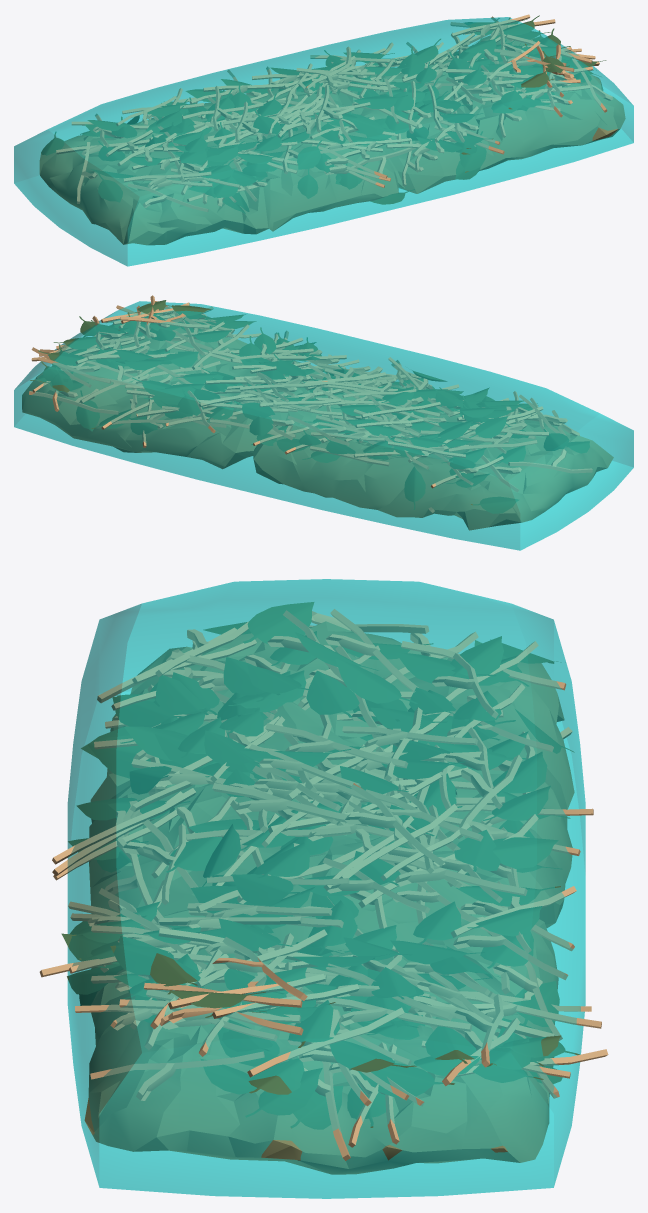
Rendered from scale_ref_50_125_250_bed.fbx.
3 views of the same model, one above another, from view 1: azimuth 30°, elevation 25°; view 2: azimuth 150°, elevation 25°; view 3: azimuth 270°, elevation 25° (orthographic). The views are drawn at different scales.
Parts seen in each view (by area): view 1: scale_100cm_100cm_3, mesh_bed_b, mesh_bed_e, mesh_bed_f, mesh_bed_d, mesh_bed_a; view 2: scale_100cm_100cm_3, mesh_bed_b, mesh_bed_f, mesh_bed_e, mesh_bed_d, mesh_bed_a; view 3: scale_100cm_100cm_3, mesh_bed_f, mesh_bed_e, mesh_bed_d, mesh_bed_a, mesh_bed_b.
Part boxes in pixels (<box>): scale_100cm_100cm_3: <box>14,17,633,266</box>; mesh_bed_b: <box>39,87,398,245</box>; mesh_bed_e: <box>163,42,476,204</box>; mesh_bed_f: <box>334,14,612,179</box>; mesh_bed_d: <box>41,86,297,213</box>; mesh_bed_a: <box>337,34,625,193</box>; scale_100cm_100cm_3: <box>14,301,633,550</box>; mesh_bed_b: <box>253,384,613,530</box>; mesh_bed_f: <box>29,295,346,447</box>; mesh_bed_e: <box>136,337,463,466</box>; mesh_bed_d: <box>344,384,592,513</box>; mesh_bed_a: <box>22,324,325,468</box>; scale_100cm_100cm_3: <box>67,579,585,1198</box>; mesh_bed_f: <box>39,888,608,1160</box>; mesh_bed_e: <box>52,707,593,979</box>; mesh_bed_d: <box>81,602,574,803</box>; mesh_bed_a: <box>84,879,558,1174</box>; mesh_bed_b: <box>89,621,574,927</box>.
Size of the model in its own units: 277 by 42.14 by 125.
